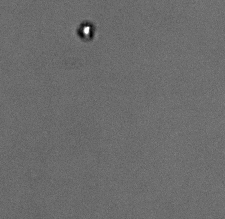Living Cell: (77, 21, 95, 40)
